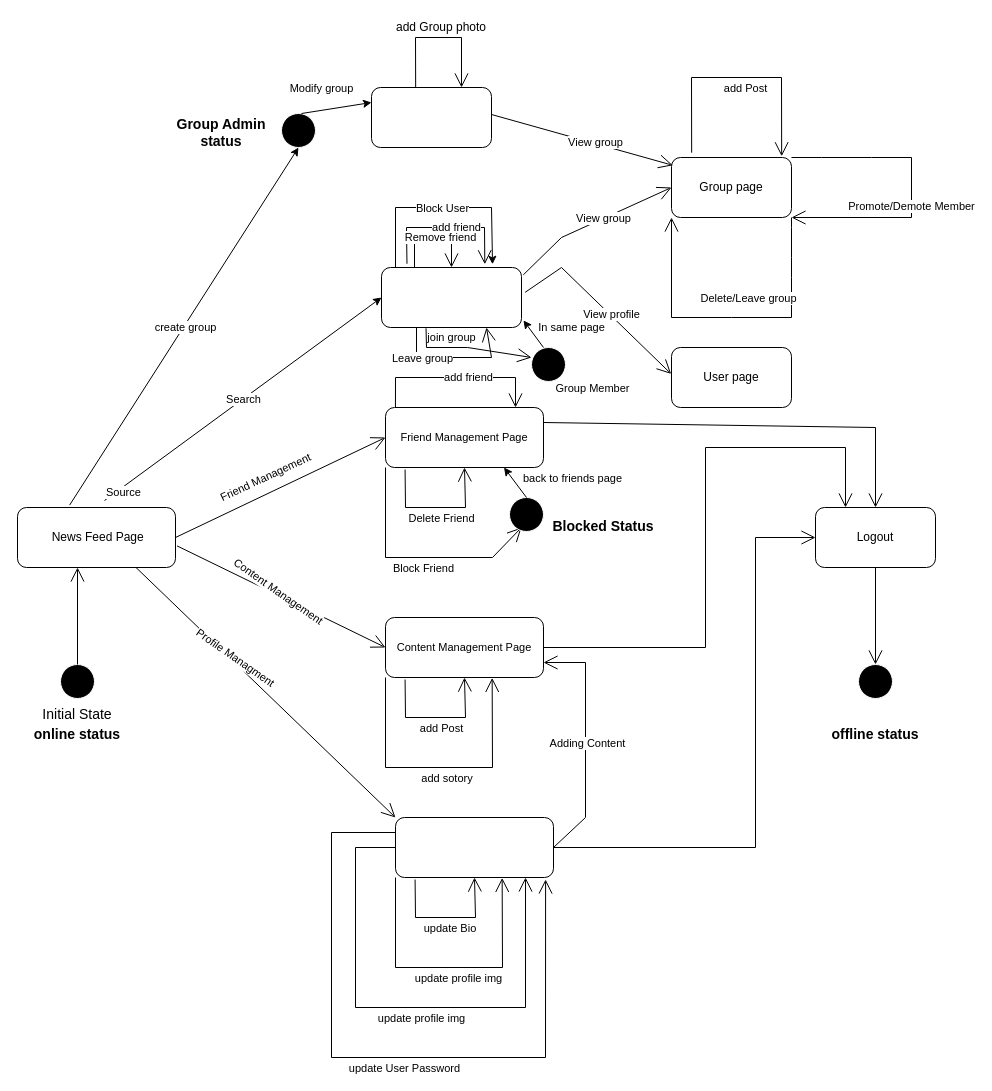
Image size: 992x1091. Some labels were removed from this diagram. The shapes that lost their labels are listed below. From the top down, each one's centre as x and y in pixels, then its label:
(x=431, y=117): Create group page
(x=451, y=297): Search Engine
(x=474, y=847): Profile Page
